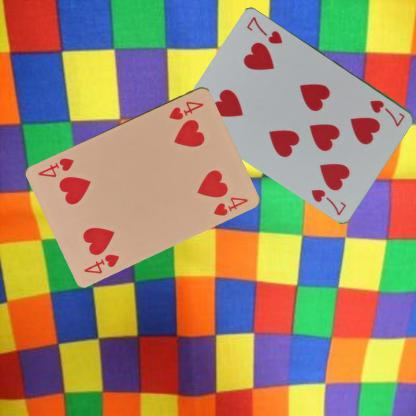4h: (81, 251, 121, 275), (166, 98, 205, 122)
7h: (367, 97, 407, 128)
